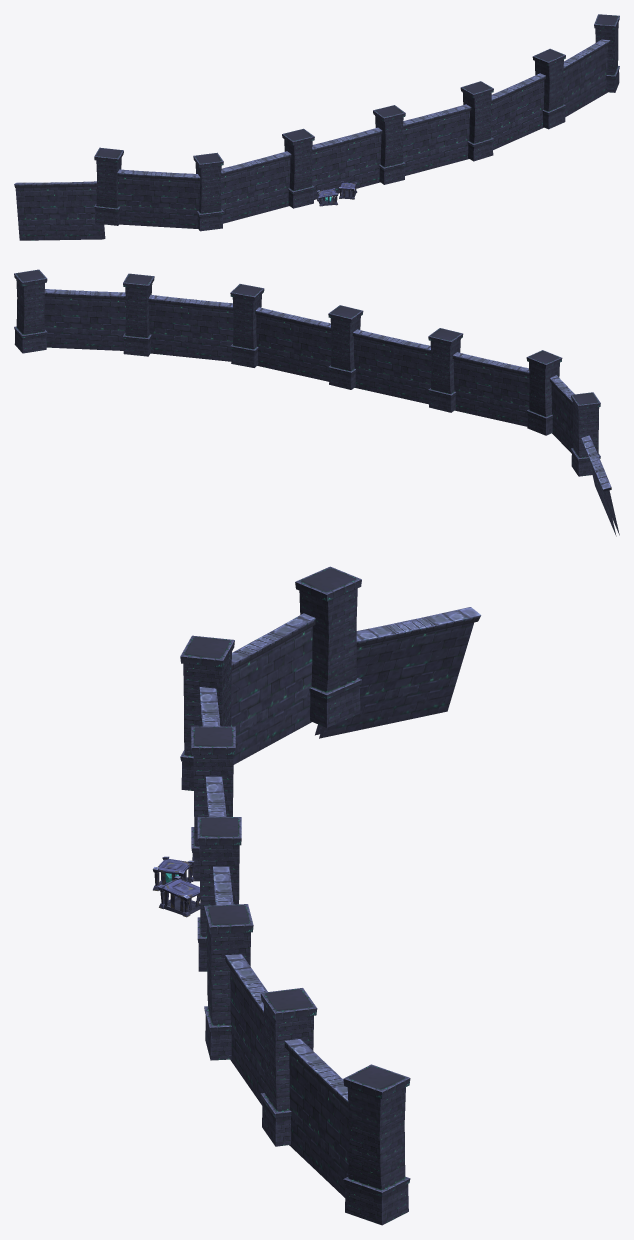
The model's file is Area10_5.fbx.
The picture shows the model from 3 angles, top to bottom: view 1: azimuth 30°, elevation 25°; view 2: azimuth 150°, elevation 25°; view 3: azimuth 270°, elevation 25°; orthographic projection. The views are drawn at different scales.
Visible parts, largest first — view 1: Area10_5; view 2: Area10_5; view 3: Area10_5.
Boxes of the visible parts, x1=… form: Area10_5: x1=14, y1=14, x2=619, y2=240; Area10_5: x1=14, y1=269, x2=619, y2=536; Area10_5: x1=152, y1=566, x2=481, y2=1225.
Size of the model in its own units: 5285 by 814 by 1286.
